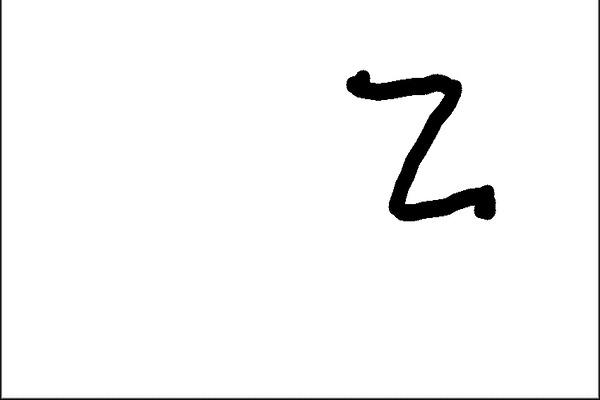Z: (334, 58, 502, 233)
